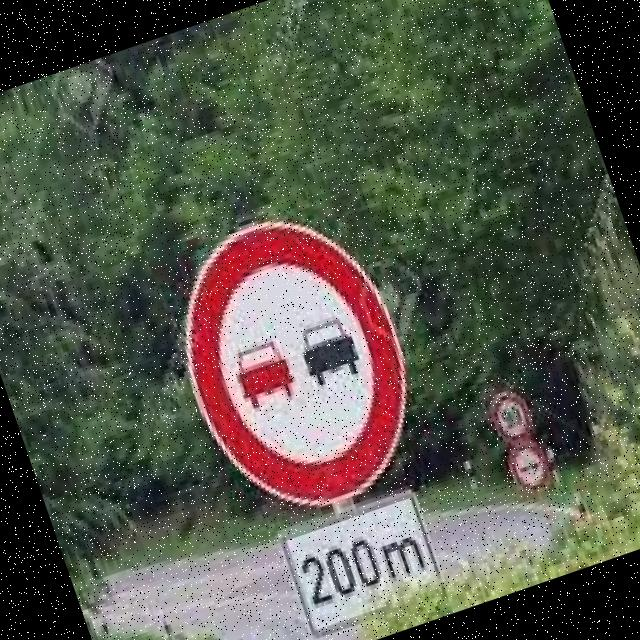no_passing: (124, 177, 442, 544), (498, 434, 571, 514)
